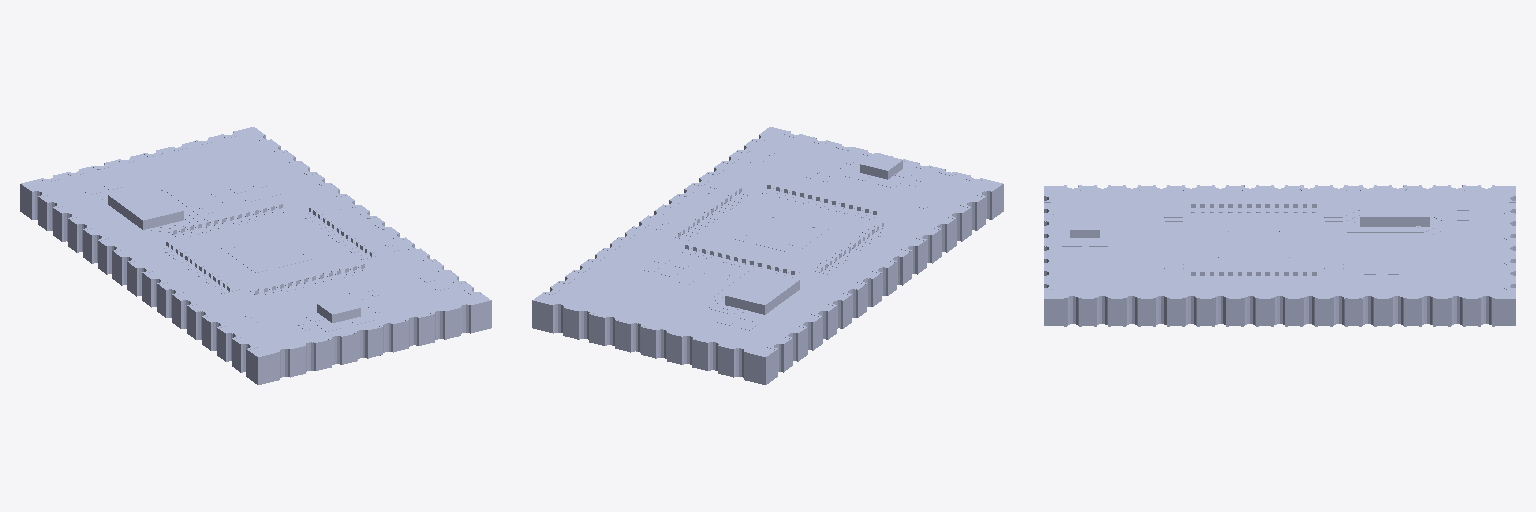
robot.urdf — pcb:
<?xml version="1.0" encoding="utf-8"?>
<!-- PCB URDF - Automatically generated and adapted for conveyorbelt_gazebo package -->
<robot name="pcb">
  <link name="base_link_pcb">
    <inertial>
      <origin xyz="0 0 0.00475" rpy="0 0 0" />
      <mass value="0.0383" />
      <inertia
        ixx="3.19E-05"
        ixy="2.91E-10"
        ixz="0.0"
        iyy="1.02E-05"
        iyz="0.0"
        izz="4.18E-05" />
    </inertial>
    <visual>
      <origin xyz="-3.0173 -4.3763 -6.4655" rpy="0 0 0" />
      <geometry>
        <mesh filename="package://conveyorbelt_gazebo/meshes/pcb/base_link_PCB.STL" scale="5.0 5.0 5.0" />
      </geometry>
      <material name="">
        <color rgba="0.792156862745098 0.819607843137255 0.933333333333333 1" />
      </material>
    </visual>
    <collision>
      <origin xyz="-3.0173 -4.3763 -6.4655" rpy="0 0 0" />
      <geometry>
        <mesh filename="package://conveyorbelt_gazebo/meshes/pcb/base_link_PCB.STL" scale="5.0 5.0 5.0" />
      </geometry>
      <surface>
        <contact>
          <collide_without_contact>false</collide_without_contact>
        </contact>
      </surface>
    </collision>
  </link>

  <gazebo reference="base_link_pcb">
    <material>Gazebo/Green</material>
    <mu1>100.0</mu1>
    <mu2>100.0</mu2>
    <selfCollide>false</selfCollide>
  </gazebo>

</robot>

--- Facts derived from the render (not from the file) ---
Views: 3 orthographic renders of the robot side by side, from view 1: azimuth 30°, elevation 25°; view 2: azimuth 150°, elevation 25°; view 3: azimuth 270°, elevation 25°.
Model pcb with 1 links and 0 joints (none), rooted at base_link_pcb, posed all joints at 0.
Visible links, largest first — view 1: base_link_pcb; view 2: base_link_pcb; view 3: base_link_pcb.
Boxes of the visible links, box(x1,y1,x2,y2) form: base_link_pcb: box(20, 127, 491, 384); base_link_pcb: box(532, 127, 1003, 384); base_link_pcb: box(1044, 185, 1515, 326).
Bounding box of the posed robot: 0.0575 × 0.1013 × 0.0094 m (x, y, z).
Meshes: 1 distinct files referenced, 1 mesh visuals loaded (1 binary STL).
